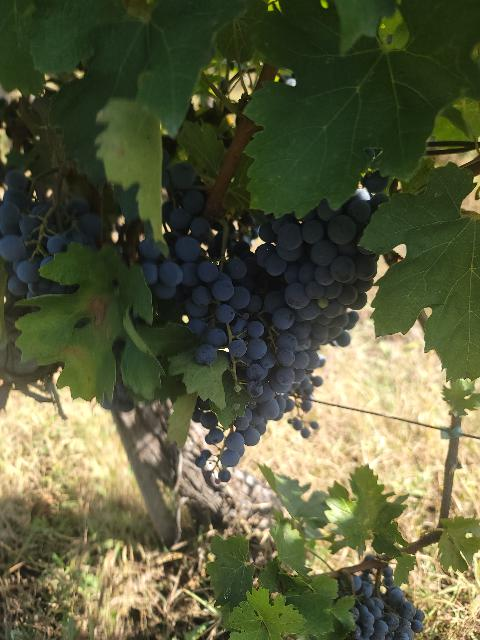grapes: (142, 261, 304, 468), (231, 188, 381, 396), (0, 170, 102, 299), (351, 568, 425, 640)
